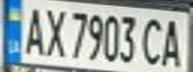0: (103, 10, 121, 63)
3: (118, 12, 142, 65)
7: (66, 7, 87, 60)
9: (84, 9, 106, 61)
A: (18, 2, 48, 56), (160, 15, 187, 69)
C: (139, 14, 169, 66)
X: (42, 3, 69, 57)
